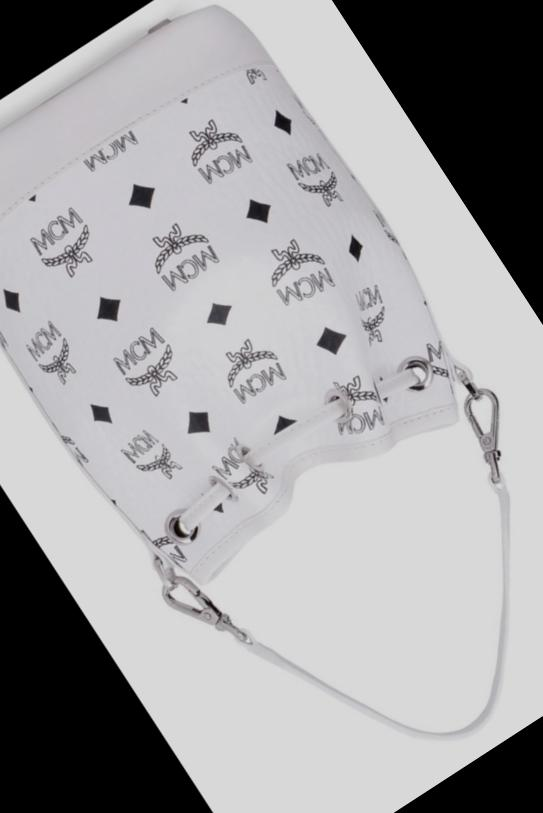MCM: (0, 33, 496, 621)
